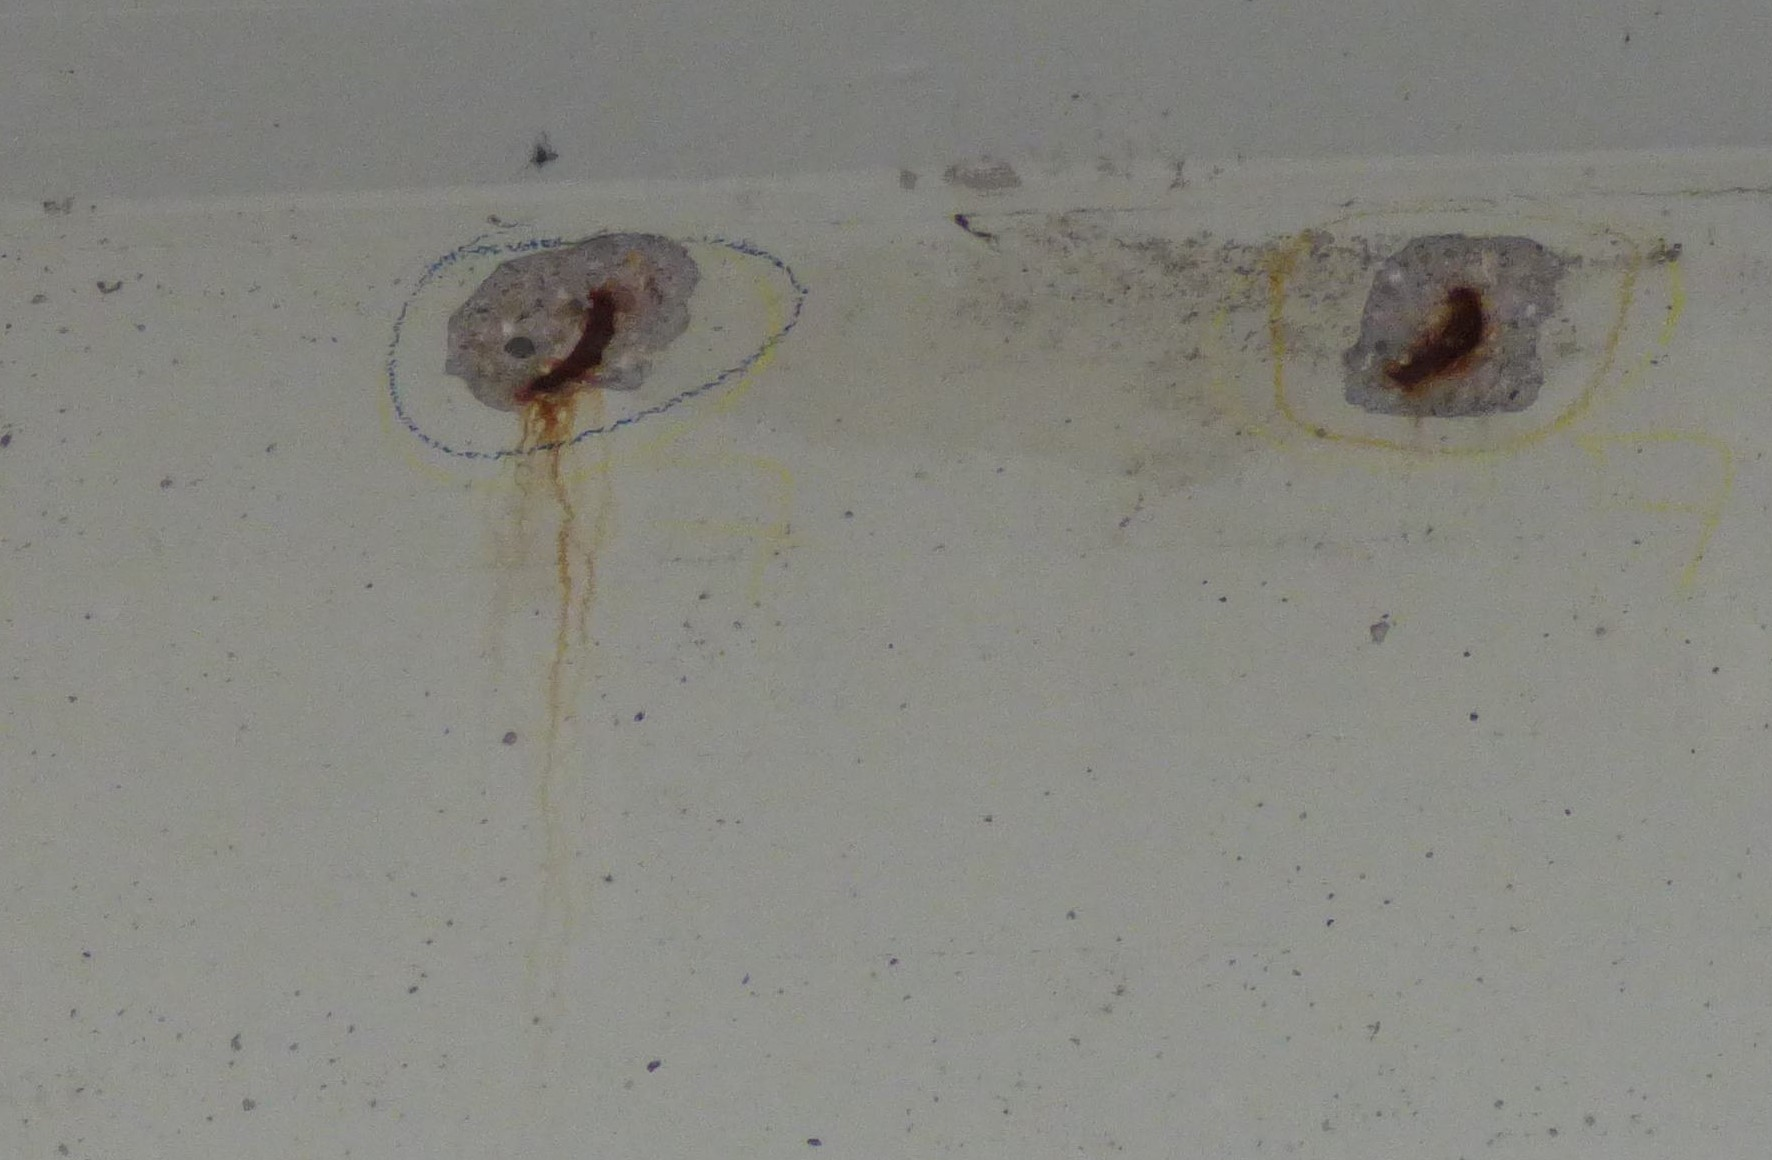Exposed reinforcement: (1388, 287, 1483, 387), (529, 291, 617, 394)
Spalling: (444, 230, 702, 414), (1338, 233, 1565, 418)
